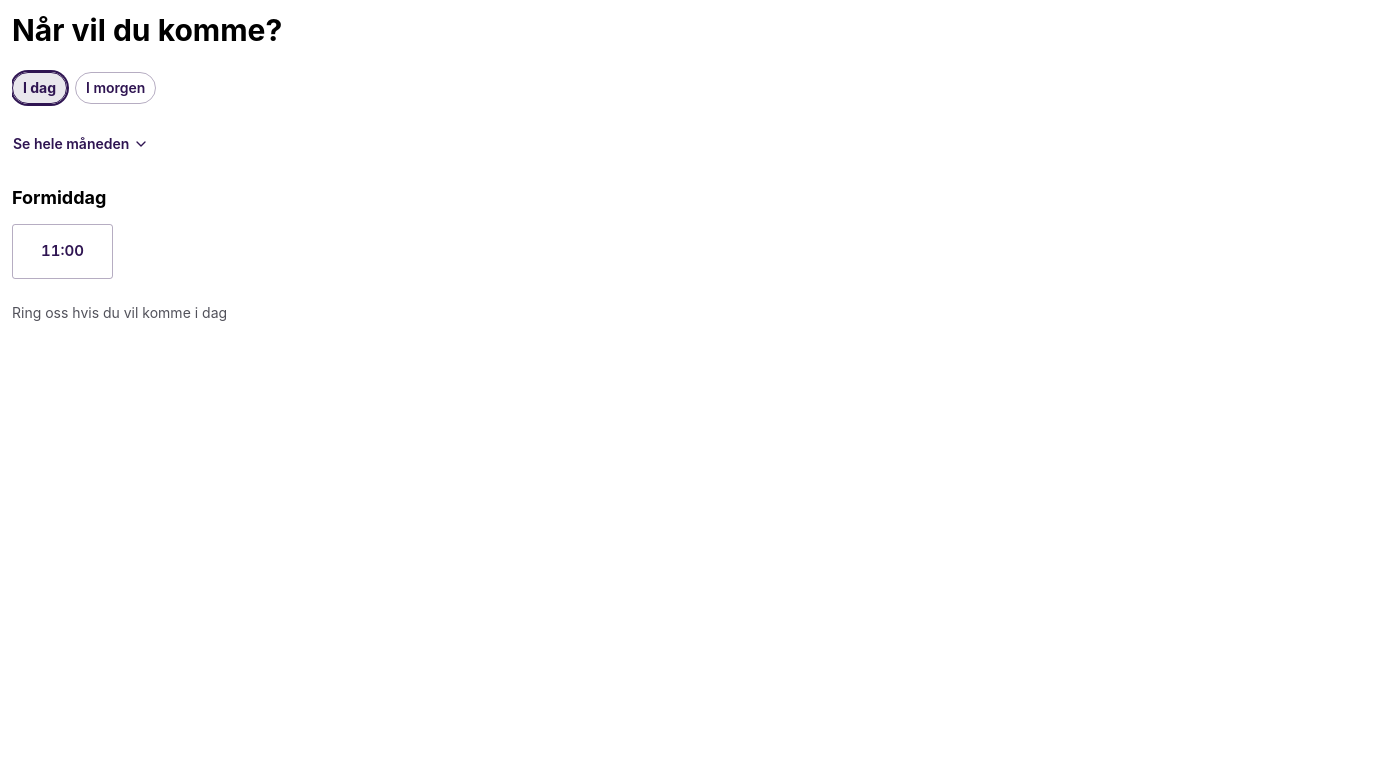
Test case: TimeScreen — a family › the month view › opens on the month the chosen day is in, and closes again
Click the button "Se hele måneden" at [81, 144], box [12,128,150,160]
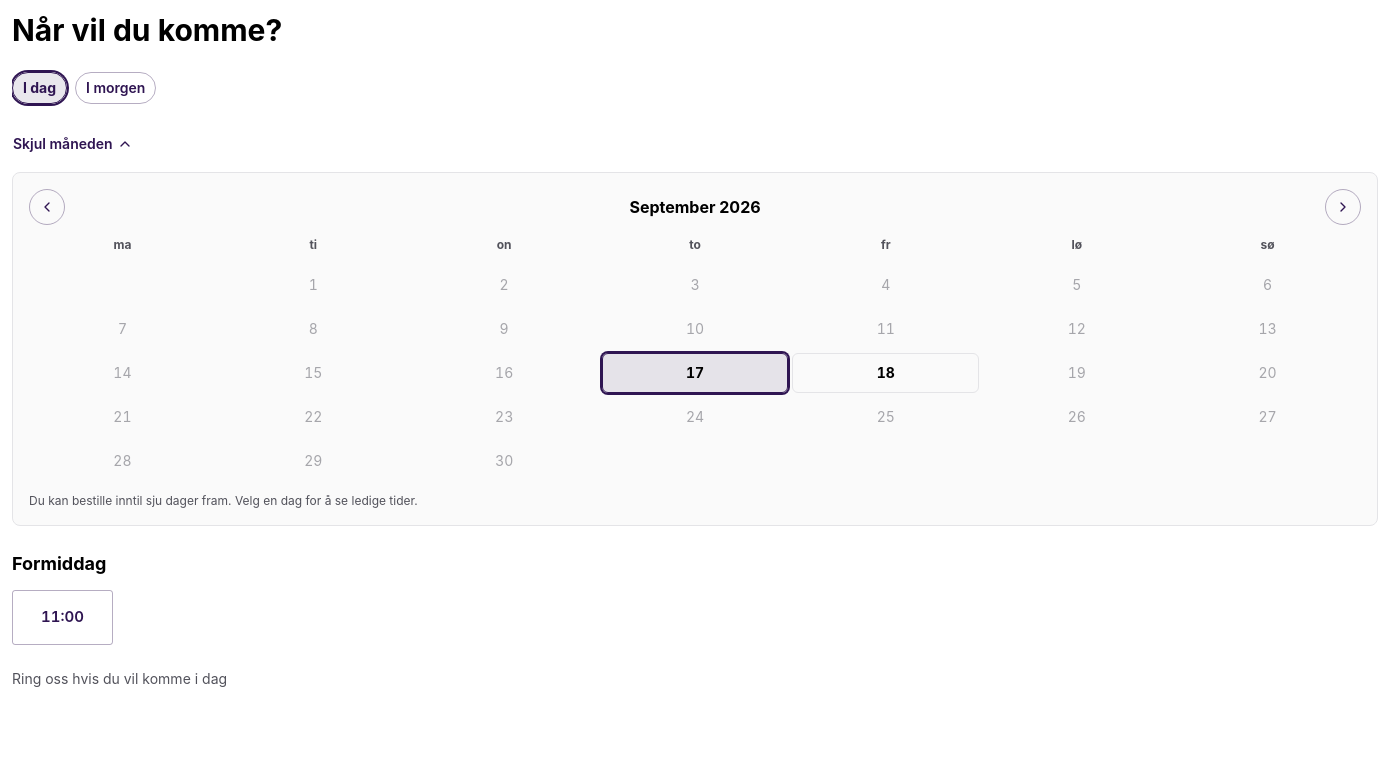
Result: the text "September 2026" is shown at [629,195,761,219]
Click the button "Skjul måneden" at [73, 144], box [12,128,134,160]
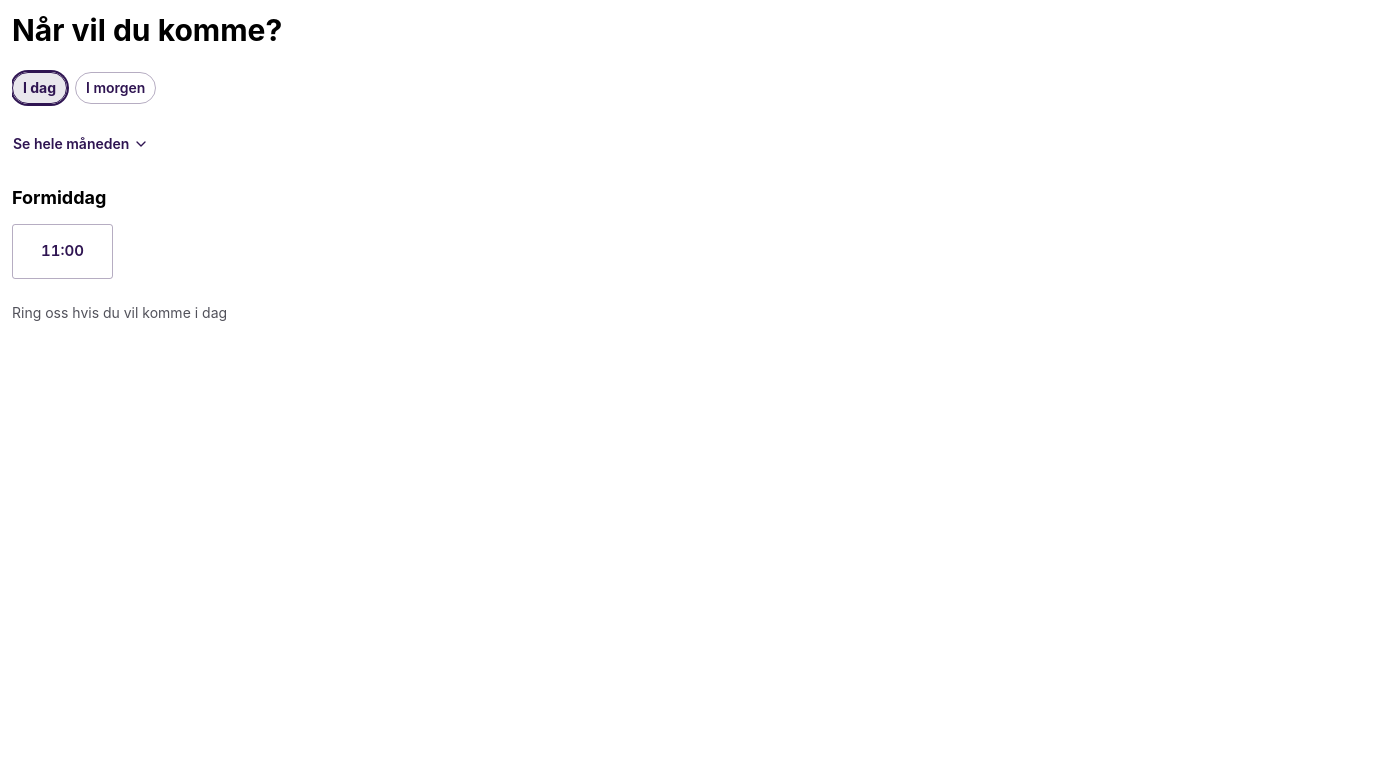
Result: the text "September 2026" is gone
